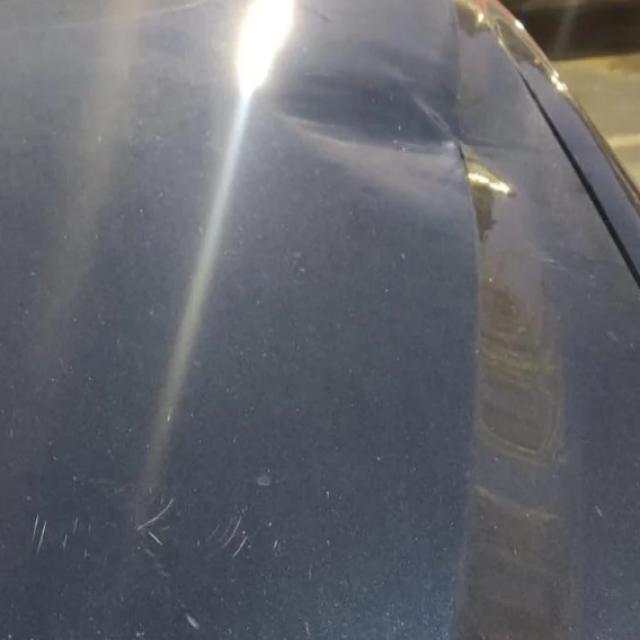dents: (256, 62, 532, 206)
